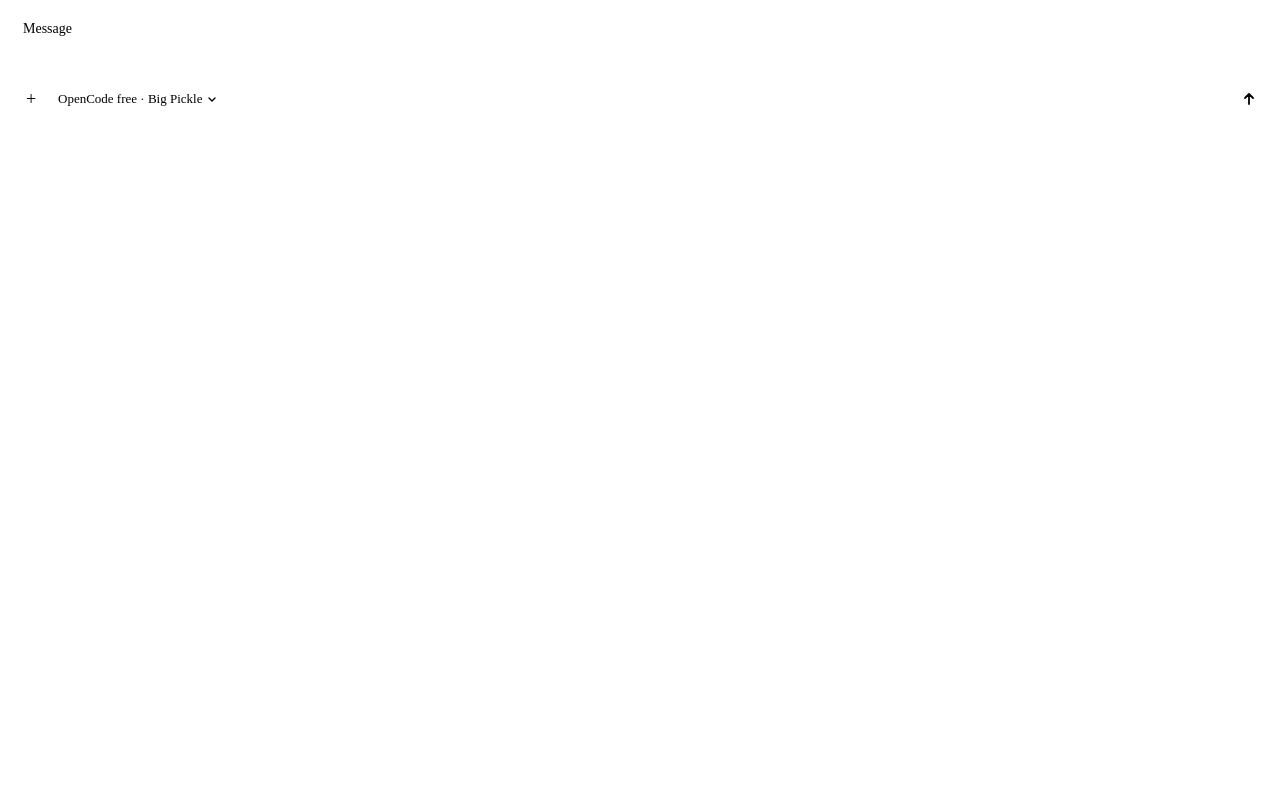
Scenario: reasoning effort › hides the Effort row for models without reasoning variants
Click the button with test id "composer-model": point(138, 99) [49,85,226,113]
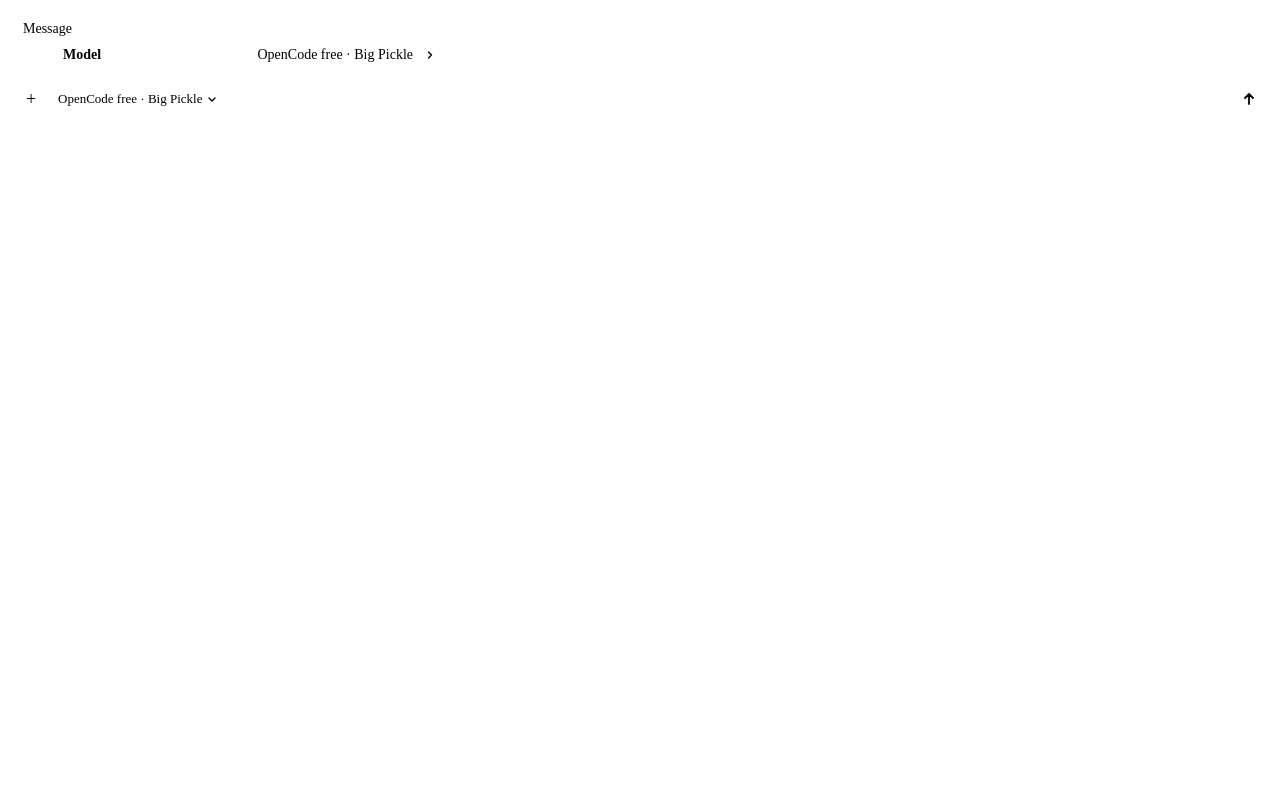
Expected: the dialog with test id "model-picker-popover" is shown, [49,31,449,79]
Expected: the button with test id "composer-model-row" is shown, [53,35,445,75]
